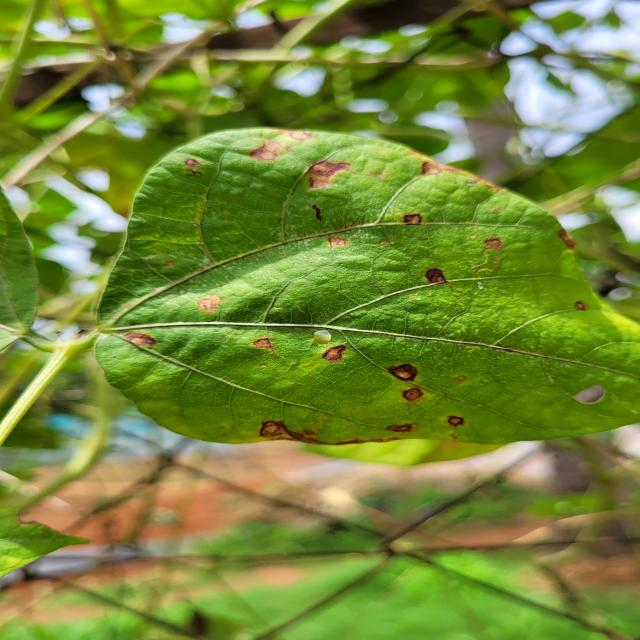Dolicos bean_cercospora leaf spot: (79, 133, 640, 445)
